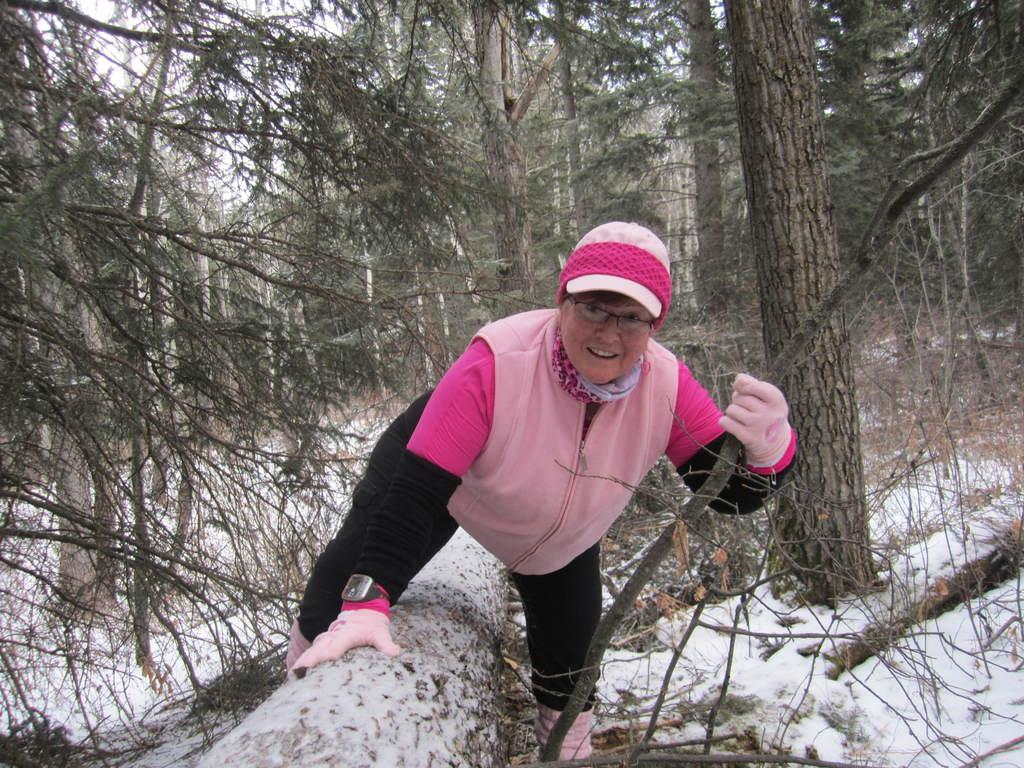Hat: (556, 222, 672, 330)
